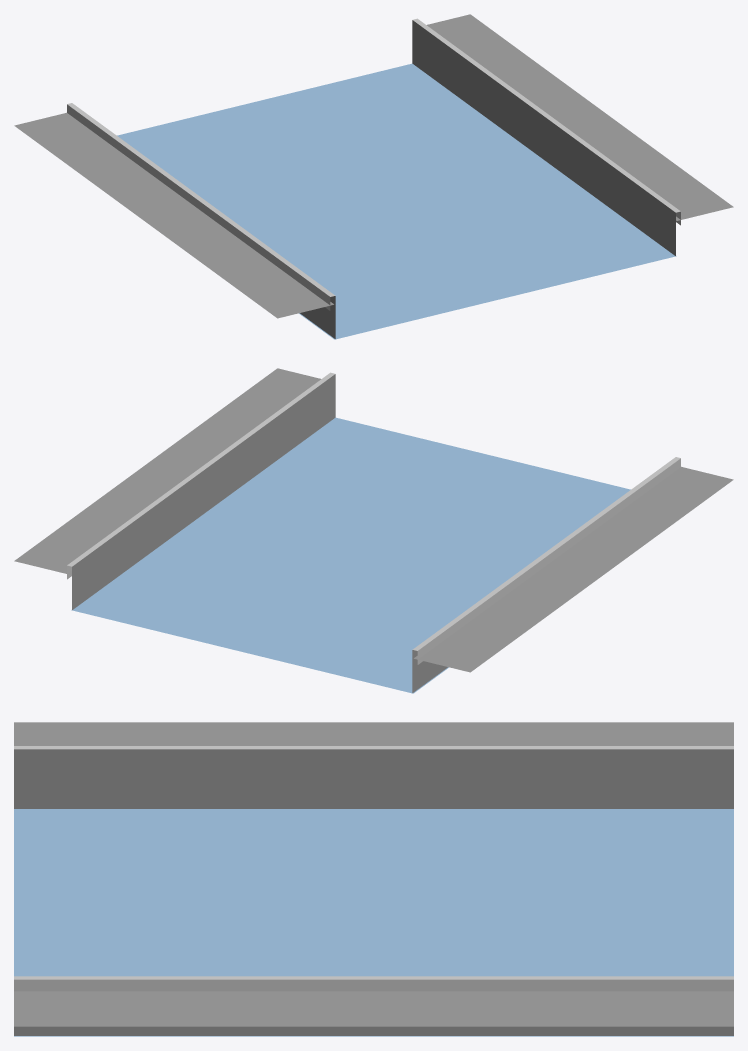
File: road_tile_river_2x2_001.fbx
3 views of the same model, one above another, from view 1: azimuth 30°, elevation 25°; view 2: azimuth 150°, elevation 25°; view 3: azimuth 270°, elevation 25° (orthographic). The views are drawn at different scales.
Visible parts, largest first — view 1: road_tile_river_2x2_001; view 2: road_tile_river_2x2_001; view 3: road_tile_river_2x2_001.
Boxes of the visible parts, x1,y1,x2,y2 form: road_tile_river_2x2_001: (14, 14, 733, 339); road_tile_river_2x2_001: (14, 368, 733, 693); road_tile_river_2x2_001: (14, 722, 733, 1036).
Bounding box in the file's own units: 1600 × 146 × 1600.
